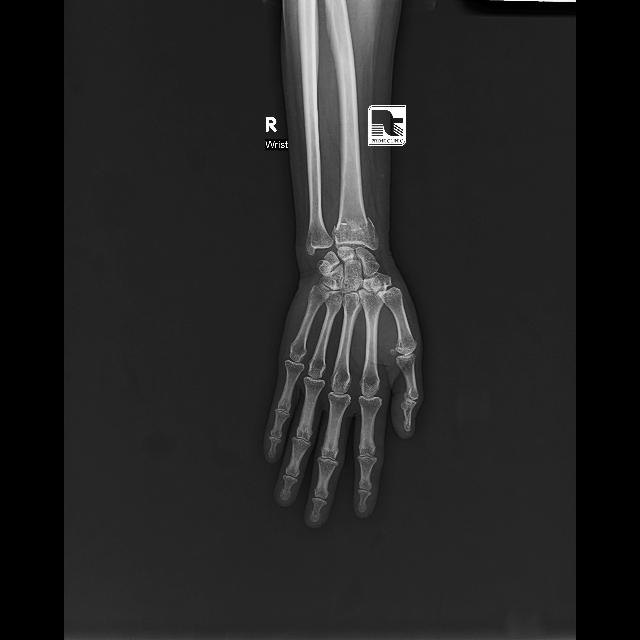Fracture: (327, 215, 380, 252)
